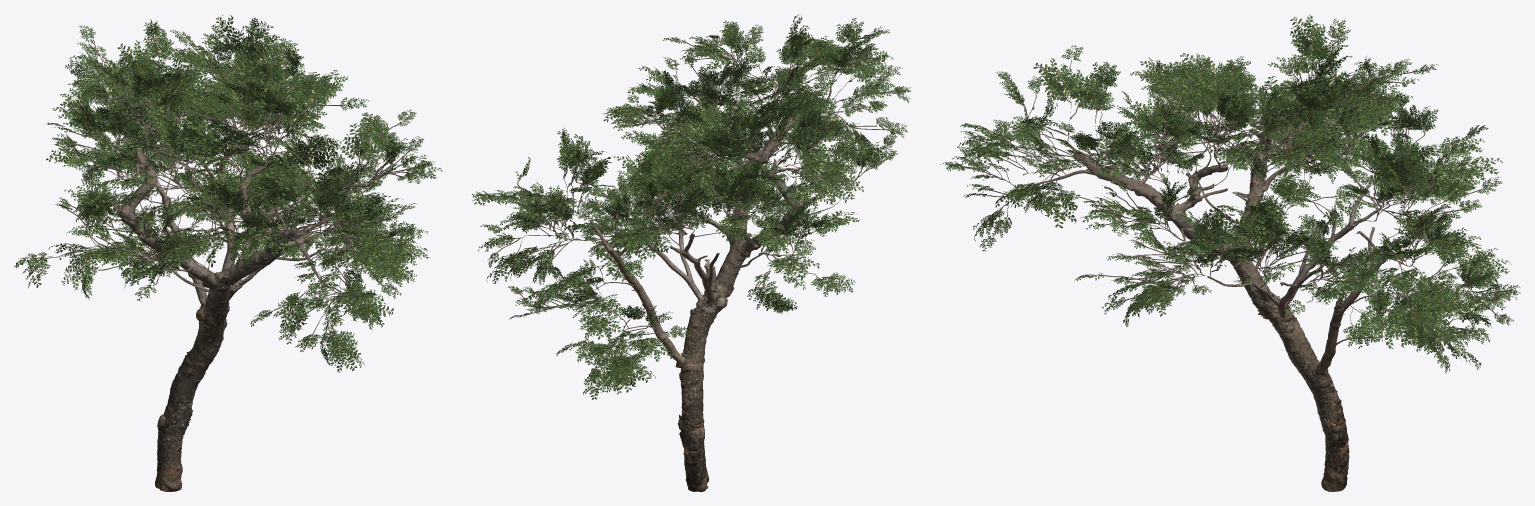
Rendered from tree-small-02-cards.glb.
3 views of the same model, side by side, from view 1: azimuth 30°, elevation 25°; view 2: azimuth 150°, elevation 25°; view 3: azimuth 270°, elevation 25° (orthographic). The views are drawn at different scales.
Parts seen in each view (by area): view 1: star_tree_leaves, star_tree_trunk, star_tree_branches; view 2: star_tree_leaves, star_tree_trunk, star_tree_branches; view 3: star_tree_leaves, star_tree_branches, star_tree_trunk.
Boxes of the visible parts, x1,y1,x2,y2 form: star_tree_leaves: [14, 14, 442, 372]; star_tree_trunk: [90, 144, 333, 491]; star_tree_branches: [46, 33, 420, 354]; star_tree_leaves: [472, 14, 910, 399]; star_tree_trunk: [589, 106, 822, 491]; star_tree_branches: [495, 34, 896, 371]; star_tree_leaves: [940, 14, 1520, 373]; star_tree_branches: [956, 41, 1504, 354]; star_tree_trunk: [1072, 112, 1387, 491].
Bounding box in the file's own units: 3.78 × 4.56 × 5.57.
3 materials, 3 textured.
